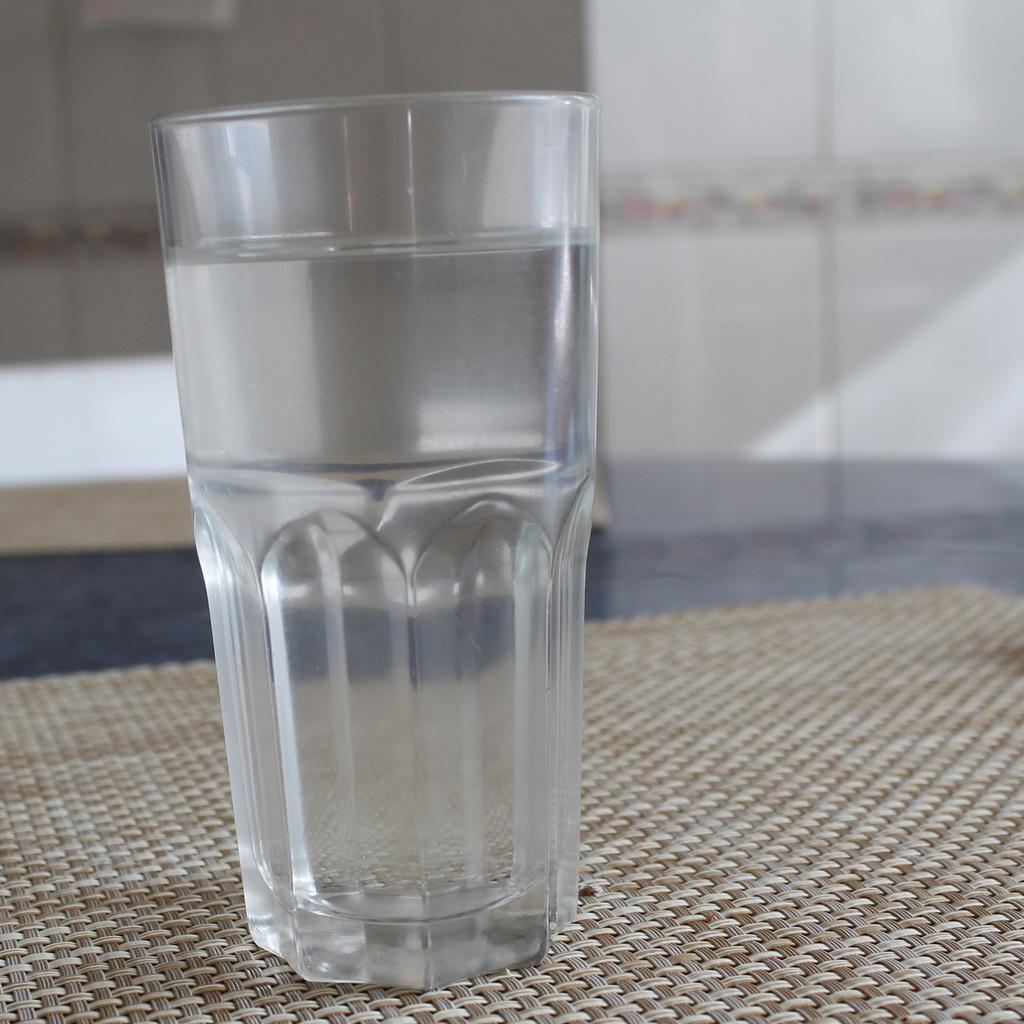glass-normal: (148, 84, 616, 996)
